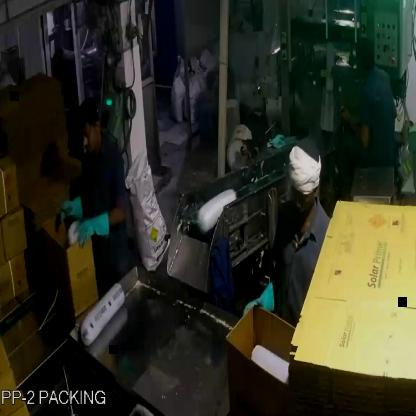glove: (71, 211, 118, 252), (51, 192, 87, 227)
no_glove: (336, 96, 374, 151)
